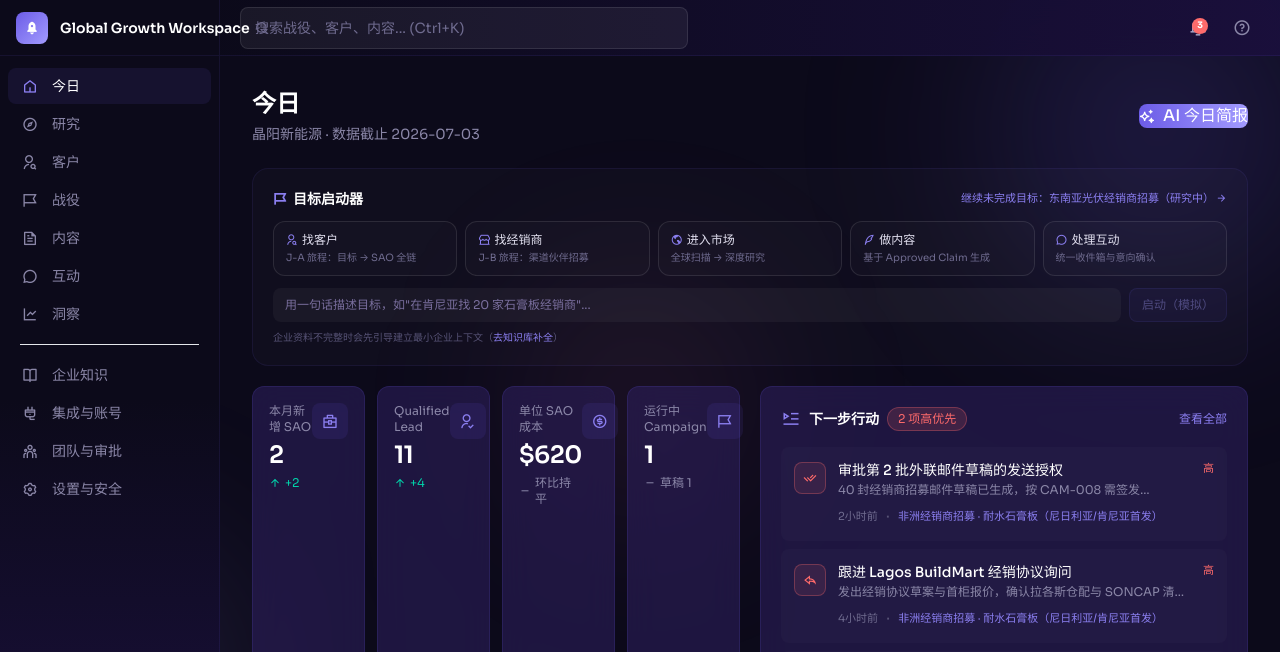
Test: 应用冒烟（真实路由渲染） › 点击找客户启动 J-A：旅程导航条出现、goal 已完成、进入研究步
The width and height of the screenshot is (1280, 652).
Click the text "找客户". click: (312, 240)
box: [286,232,338,247]
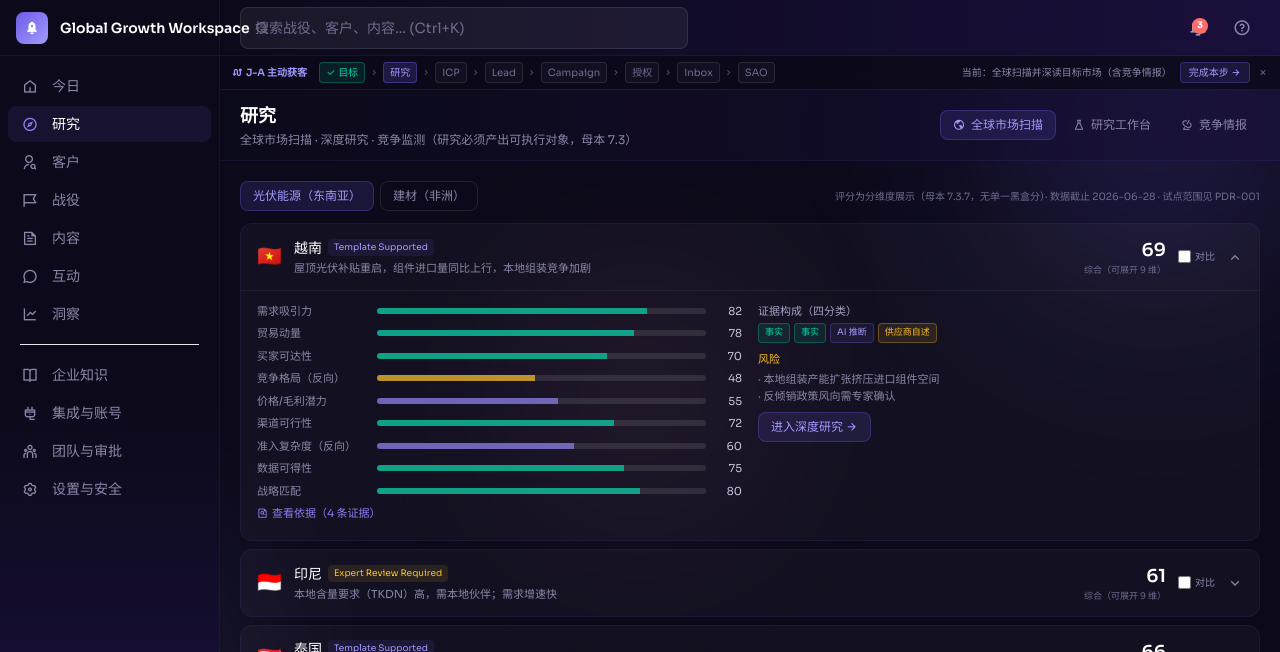
Check: the text "J-A 主动获客" is shown, box [232,65,307,80]
Check: the button "完成本步" is shown, box [1180,62,1250,83]
